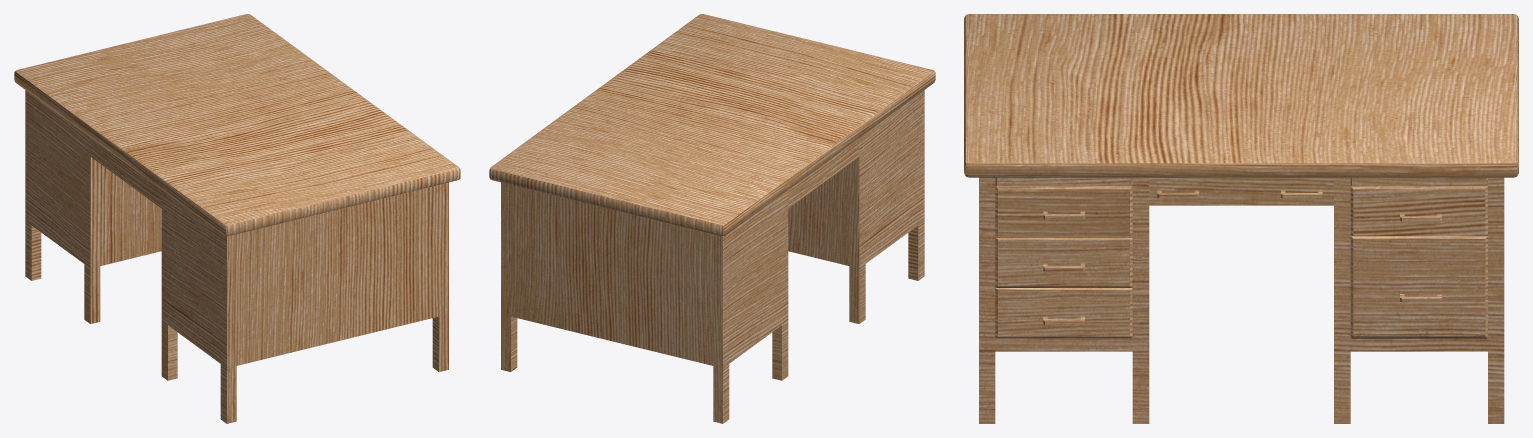
File: Metal Desk.obj
The picture shows the model from 3 angles, left to right: view 1: azimuth 30°, elevation 25°; view 2: azimuth 150°, elevation 25°; view 3: azimuth 270°, elevation 25°; orthographic projection. The views are drawn at different scales.
Visible parts, largest first — view 1: TOP_Mesh; view 2: TOP_Mesh; view 3: TOP_Mesh.
Part boxes in pixels (bbox=[...]): TOP_Mesh: bbox=[14, 14, 460, 423]; TOP_Mesh: bbox=[489, 14, 935, 423]; TOP_Mesh: bbox=[964, 14, 1518, 423].
Bounding box in the file's own units: 1.33 × 1.09 × 2.06.
1 material, 1 textured.
